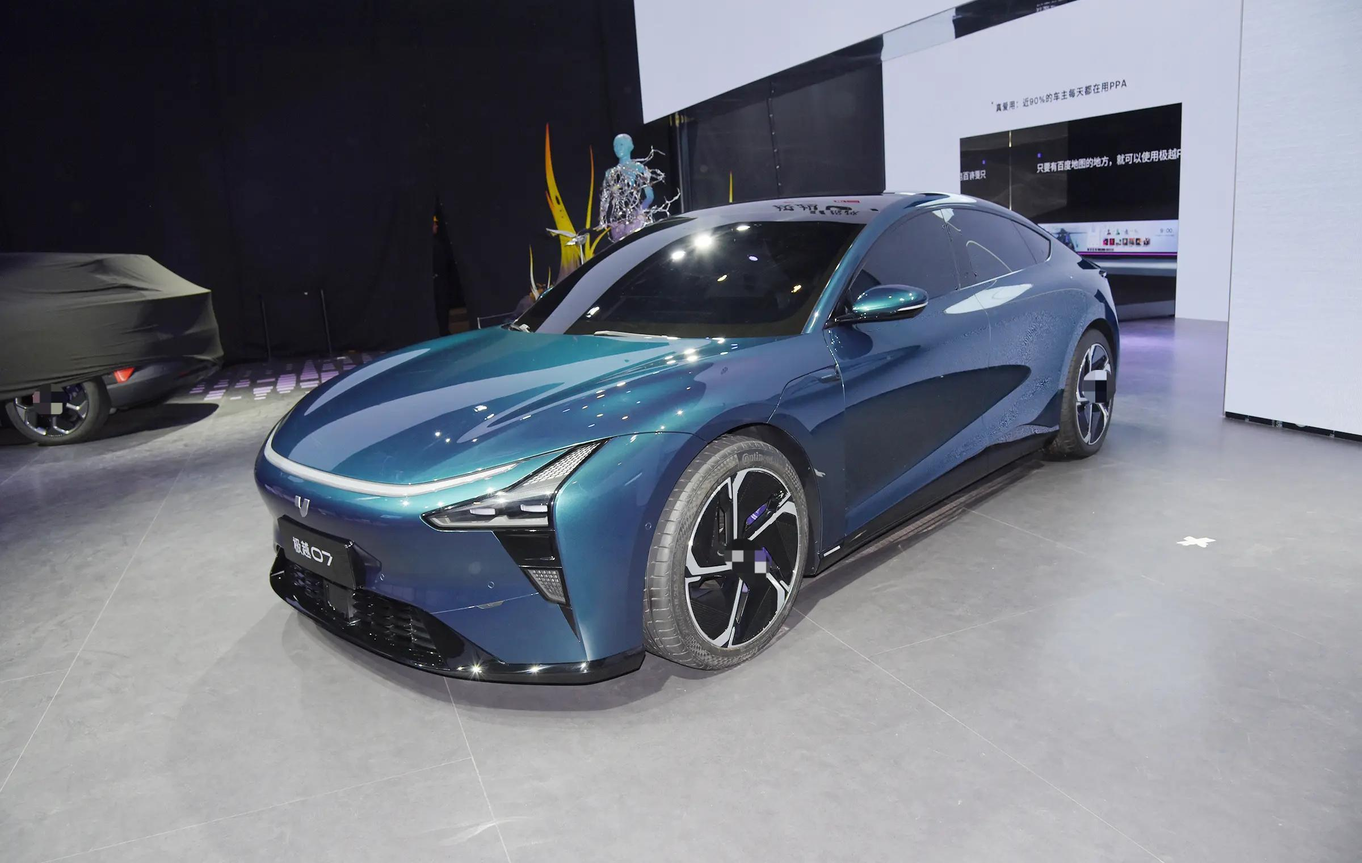JIYUE: (295, 495, 310, 518)
